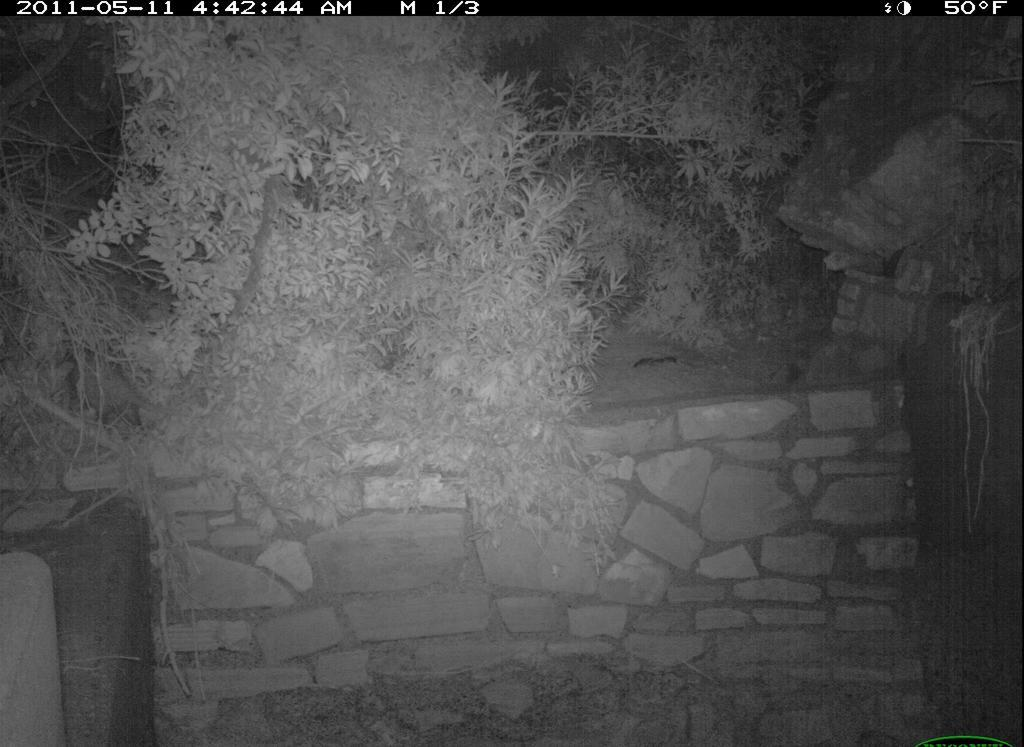opossum: (63, 343, 205, 440)
